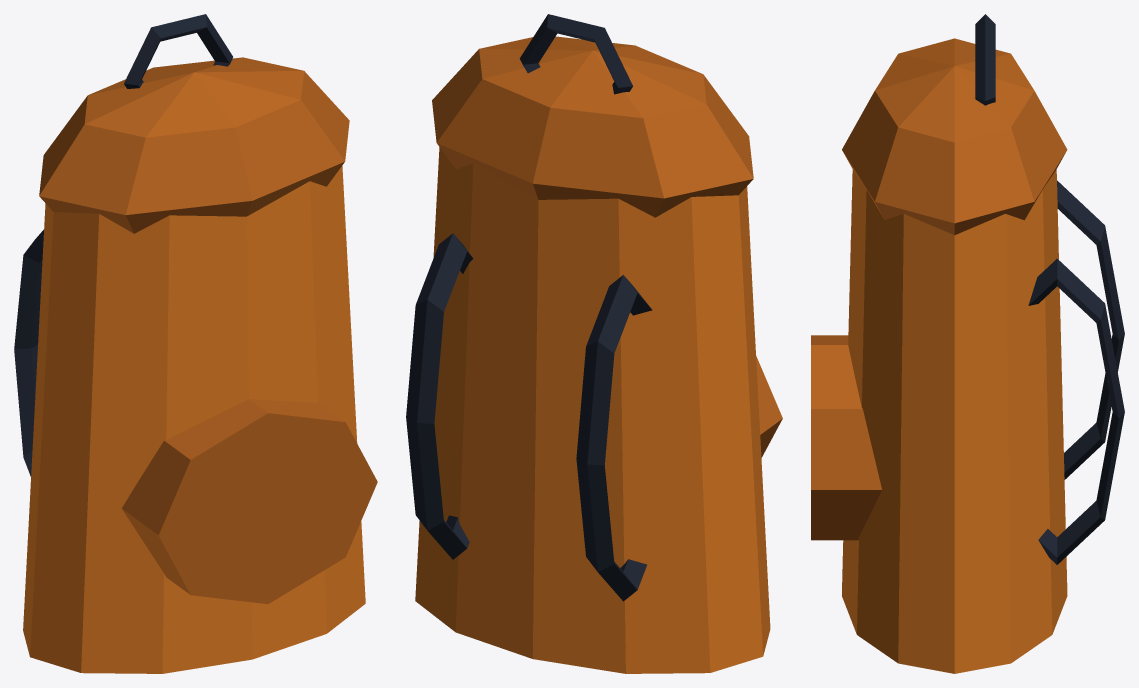
The model's file is rescue_bag.glb.
The picture shows the model from 3 angles, left to right: view 1: azimuth 30°, elevation 25°; view 2: azimuth 150°, elevation 25°; view 3: azimuth 270°, elevation 25°; orthographic projection. The views are drawn at different scales.
Parts seen in each view (by area): view 1: RescueBag; view 2: RescueBag; view 3: RescueBag.
Part boxes in pixels (bbox=[...]): RescueBag: bbox=[14, 14, 377, 673]; RescueBag: bbox=[406, 14, 782, 673]; RescueBag: bbox=[811, 14, 1124, 673].
Bounding box in the file's own units: 0.36 × 0.612 × 0.306.
